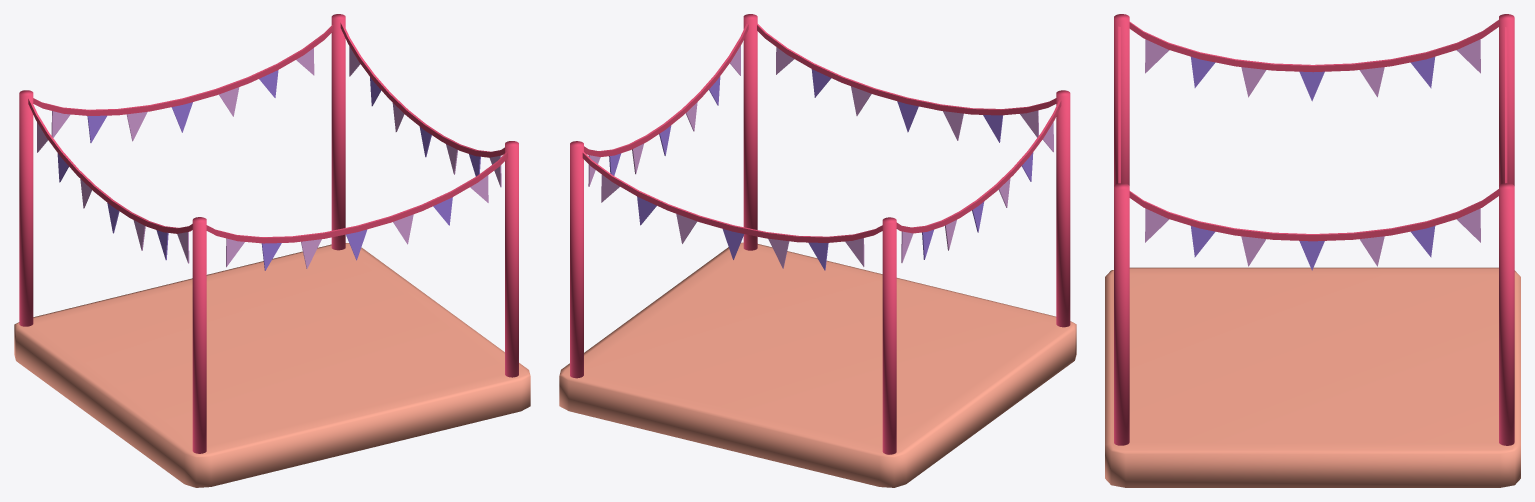
The model's file is event.gltf.
The picture shows the model from 3 angles, left to right: view 1: azimuth 30°, elevation 25°; view 2: azimuth 150°, elevation 25°; view 3: azimuth 270°, elevation 25°; orthographic projection. The views are drawn at different scales.
Visible parts, largest first — view 1: podloga2, Cylinder.003, Cylinder.004, Cylinder.001, Cylinder.002, Circle.003, Circle.002, Circle, Circle.001, Plane.014, Plane.009, Plane.013 (+3 smaller); view 2: podloga2, Cylinder.004, Cylinder.003, Cylinder.002, Cylinder.001, Circle.002, Circle.003, Circle, Circle.001, Plane.009, Plane.014, Plane.010 (+3 smaller); view 3: podloga2, Cylinder.001, Cylinder.002, Circle, Circle.001, Cylinder.004, Cylinder.003, Plane.016, Plane.001, Plane.003, Plane.006, Plane.002 (+3 smaller).
Part boxes in pixels (x1,y1,x2,y2): podloga2: [14, 243, 530, 487]; Cylinder.003: [192, 217, 206, 453]; Cylinder.004: [19, 90, 33, 326]; Cylinder.001: [331, 14, 345, 250]; Cylinder.002: [505, 141, 518, 377]; Circle.003: [206, 152, 507, 243]; Circle.002: [33, 25, 333, 115]; Circle: [340, 22, 504, 157]; Circle.001: [28, 98, 192, 233]; Plane.014: [301, 214, 413, 268]; Plane.009: [126, 87, 239, 141]; Plane.013: [261, 197, 452, 270]; podloga2: [559, 242, 1076, 487]; Cylinder.004: [882, 217, 896, 454]; Cylinder.003: [1056, 90, 1070, 327]; Cylinder.002: [743, 14, 757, 250]; Cylinder.001: [570, 141, 583, 378]; Circle.002: [582, 151, 882, 242]; Circle.003: [757, 24, 1056, 115]; Circle: [584, 24, 748, 157]; Circle.001: [896, 100, 1061, 233]; Plane.009: [676, 214, 789, 268]; Plane.014: [851, 86, 963, 140]; Plane.010: [637, 196, 828, 270]; podloga2: [1105, 267, 1520, 487]; Cylinder.001: [1499, 183, 1514, 445]; Cylinder.002: [1114, 183, 1129, 445]; Circle: [1129, 189, 1498, 241]; Circle.001: [1129, 20, 1498, 72]; Cylinder.004: [1499, 14, 1514, 185]; Cylinder.003: [1114, 14, 1129, 185]; Plane.016: [1145, 208, 1480, 242]; Plane.001: [1145, 39, 1480, 73]; Plane.003: [1241, 67, 1384, 97]; Plane.006: [1241, 236, 1384, 266]; Plane.002: [1191, 56, 1435, 88].
Bounding box in the file's own units: 16.87 × 12.35 × 15.88.
1 material, 1 textured.
